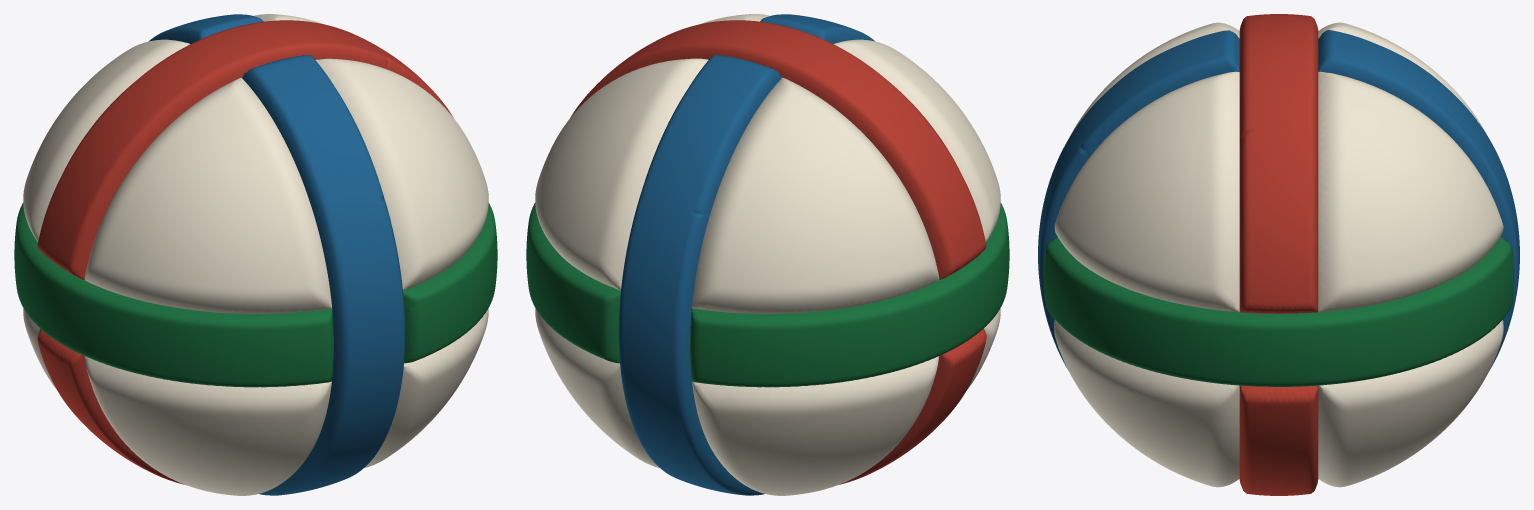
The model's file is borromean.glb.
The picture shows the model from 3 angles, left to right: view 1: azimuth 30°, elevation 25°; view 2: azimuth 150°, elevation 25°; view 3: azimuth 270°, elevation 25°; orthographic projection.
Visible parts, largest first — view 1: panel_001_polygon, panel_005_polygon, panel_014_polygon, panel_002_polygon, panel_003_polygon, panel_007_polygon, panel_013_polygon, panel_008_polygon, panel_006_polygon, panel_004_polygon, panel_010_polygon, panel_009_polygon; view 2: panel_008_polygon, panel_010_polygon, panel_014_polygon, panel_002_polygon, panel_009_polygon, panel_012_polygon, panel_013_polygon, panel_001_polygon, panel_011_polygon, panel_004_polygon, panel_005_polygon, panel_003_polygon; view 3: panel_013_polygon, panel_007_polygon, panel_012_polygon, panel_002_polygon, panel_006_polygon, panel_011_polygon, panel_010_polygon, panel_005_polygon, panel_004_polygon, panel_001_polygon, panel_008_polygon.
Part boxes in pixels (bbox=[...]): panel_001_polygon: bbox=[84, 77, 331, 313]; panel_005_polygon: bbox=[241, 54, 405, 495]; panel_014_polygon: bbox=[14, 203, 333, 387]; panel_002_polygon: bbox=[37, 20, 453, 279]; panel_003_polygon: bbox=[84, 356, 331, 495]; panel_007_polygon: bbox=[315, 58, 488, 290]; panel_013_polygon: bbox=[403, 203, 497, 363]; panel_008_polygon: bbox=[23, 39, 190, 241]; panel_006_polygon: bbox=[364, 308, 488, 467]; panel_004_polygon: bbox=[37, 329, 184, 484]; panel_010_polygon: bbox=[148, 14, 263, 43]; panel_009_polygon: bbox=[23, 308, 56, 389]; panel_008_polygon: bbox=[692, 77, 939, 313]; panel_010_polygon: bbox=[618, 54, 782, 495]; panel_014_polygon: bbox=[690, 203, 1009, 387]; panel_002_polygon: bbox=[570, 20, 986, 279]; panel_009_polygon: bbox=[692, 356, 939, 495]; panel_012_polygon: bbox=[535, 58, 708, 290]; panel_013_polygon: bbox=[526, 203, 620, 363]; panel_001_polygon: bbox=[833, 39, 1000, 241]; panel_011_polygon: bbox=[535, 308, 659, 467]; panel_004_polygon: bbox=[839, 328, 986, 484]; panel_005_polygon: bbox=[760, 14, 875, 43]; panel_003_polygon: bbox=[966, 308, 1000, 390]; panel_013_polygon: bbox=[1044, 237, 1513, 386]; panel_007_polygon: bbox=[1054, 71, 1239, 312]; panel_012_polygon: bbox=[1318, 71, 1503, 312]; panel_002_polygon: bbox=[1239, 14, 1318, 313]; panel_006_polygon: bbox=[1054, 320, 1239, 487]; panel_011_polygon: bbox=[1318, 320, 1503, 487]; panel_010_polygon: bbox=[1318, 30, 1519, 370]; panel_005_polygon: bbox=[1038, 30, 1239, 370]; panel_004_polygon: bbox=[1239, 385, 1318, 495]; panel_001_polygon: bbox=[1070, 22, 1239, 135]; panel_008_polygon: bbox=[1318, 22, 1487, 135].
Size of the model in its own units: 4.24 by 4.24 by 4.24.
